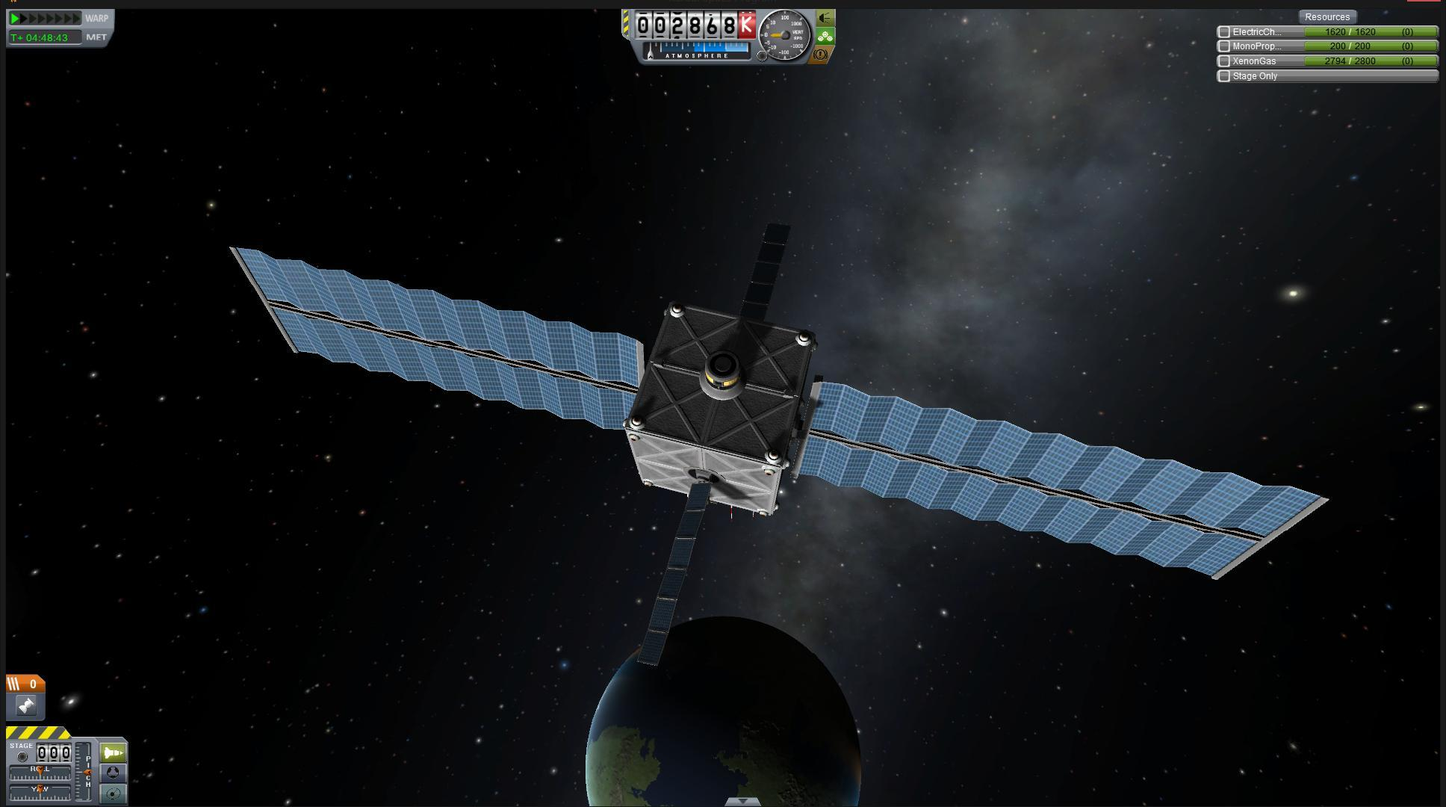antenna: (729, 504, 734, 524)
body: (624, 297, 820, 518)
solar: (787, 377, 1333, 583), (227, 246, 646, 433), (634, 481, 716, 669), (736, 220, 792, 324)
